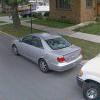Car: (6, 21, 83, 83)
